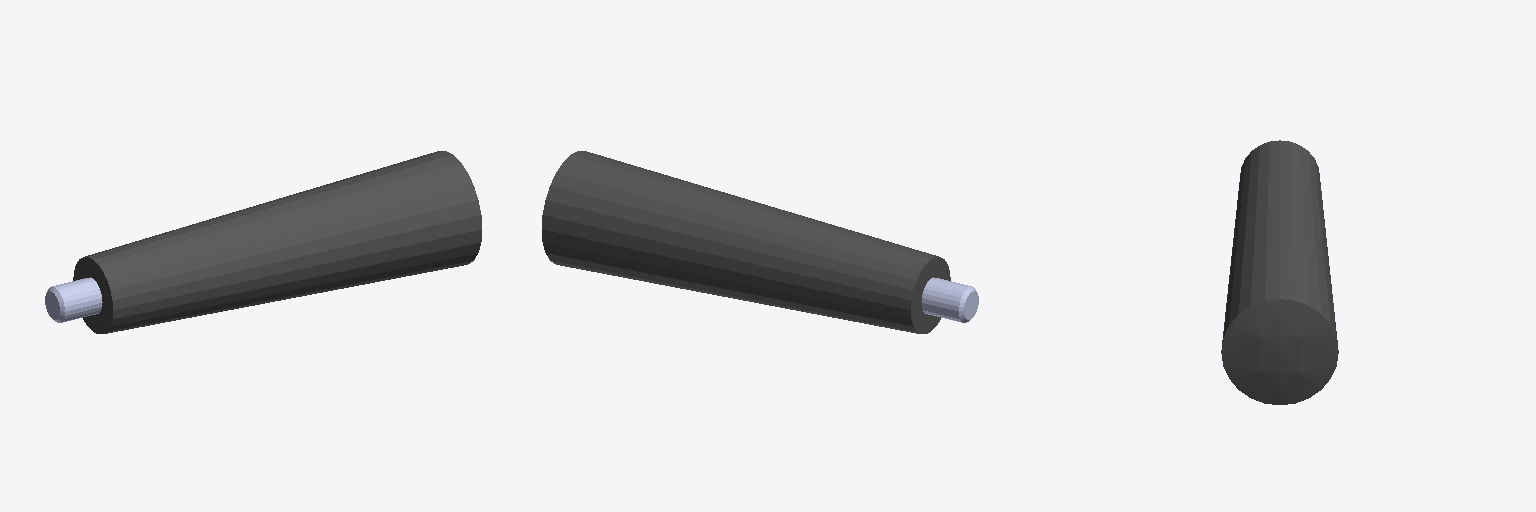
The model's file is ganter_gn_203-25-m8.obj.
The picture shows the model from 3 angles: view 1: azimuth 30°, elevation 25°; view 2: azimuth 150°, elevation 25°; view 3: azimuth 270°, elevation 25°; orthographic projection.
Parts seen in each view (by area): view 1: ganter_gn_203-25-m8_1; view 2: ganter_gn_203-25-m8_1; view 3: ganter_gn_203-25-m8_1.
Part boxes in pixels (bbox=[...]): ganter_gn_203-25-m8_1: bbox=[45, 151, 481, 333]; ganter_gn_203-25-m8_1: bbox=[542, 151, 978, 333]; ganter_gn_203-25-m8_1: bbox=[1221, 140, 1338, 404].
Size of the model in its own units: 100 by 25 by 25.